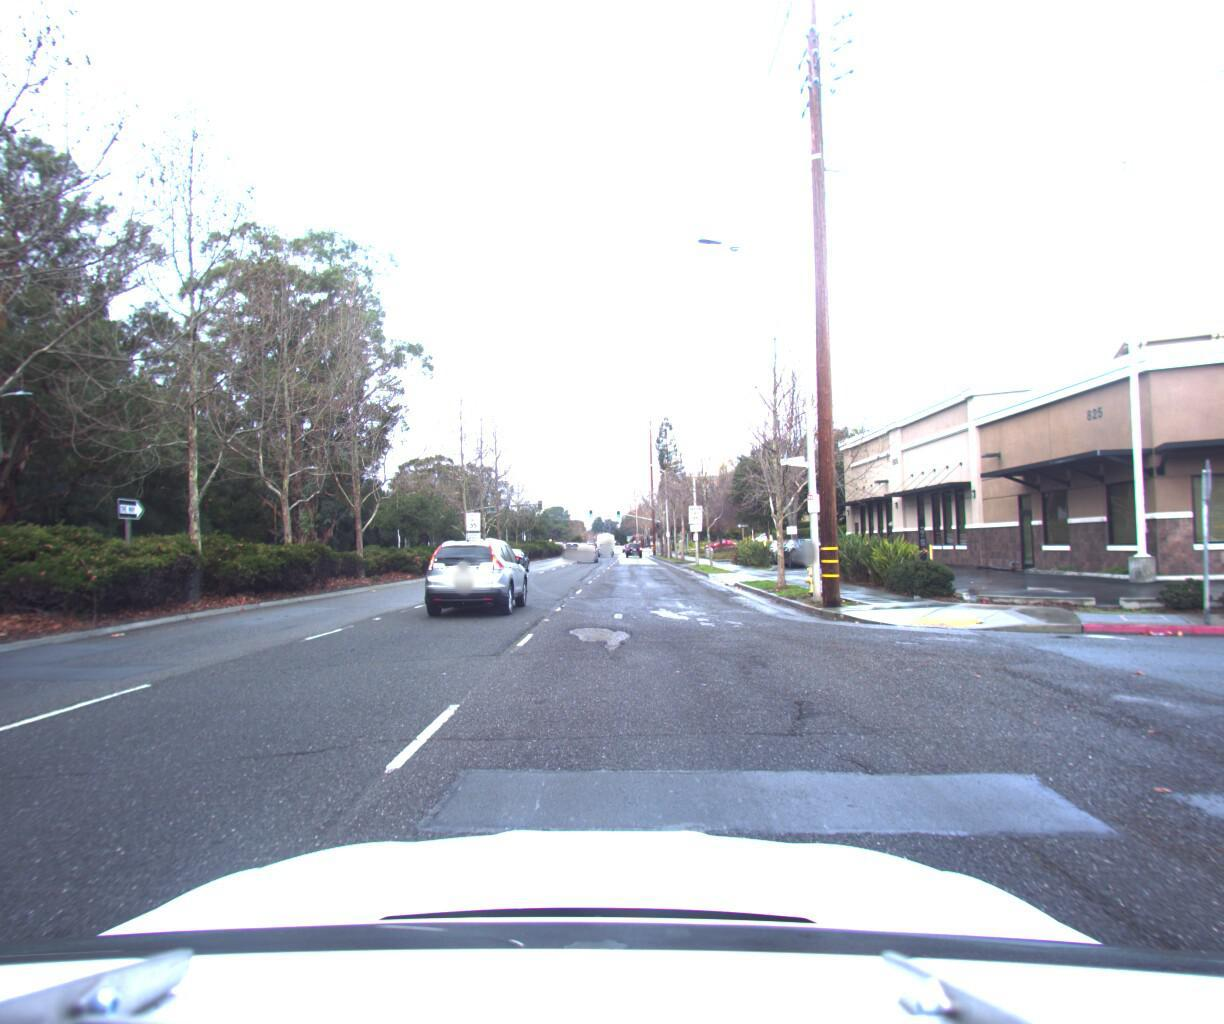car: (424, 532, 534, 622), (772, 533, 833, 565), (574, 540, 598, 560)
